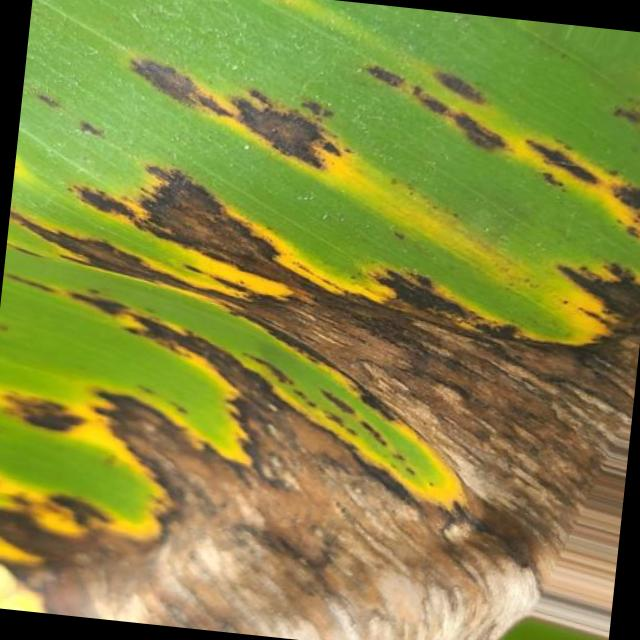Banana_Black_Sigatoka: (85, 33, 640, 446), (0, 318, 537, 640)
